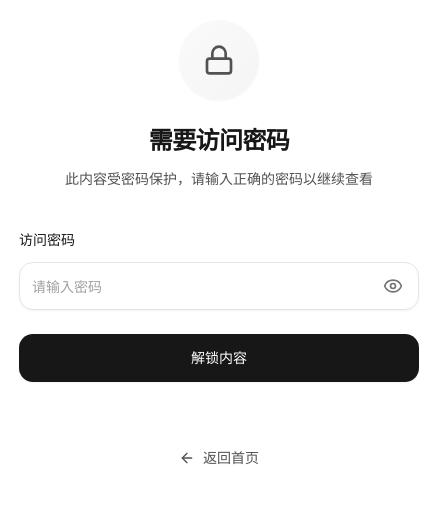
SharedContentPage › displays error if submitted password is incorrect
Type "wrongsecret" into the password field labelled "访问密码" at (219, 286), box [19,262,419,310]
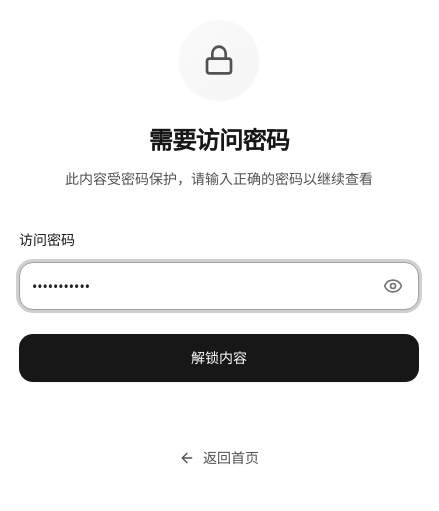
Click the button "解锁内容" at (219, 358), box [19,334,419,382]
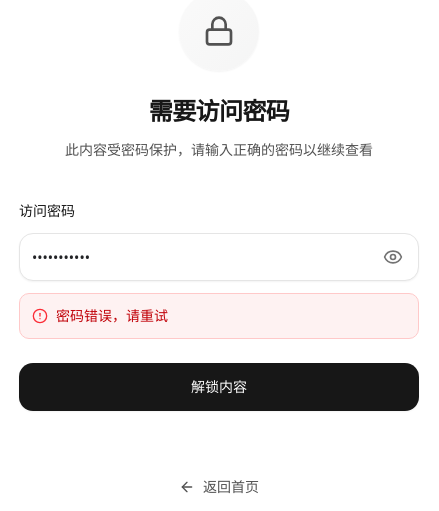
Expected: the text "密码错误，请重试" is shown, [56,306,168,326]
